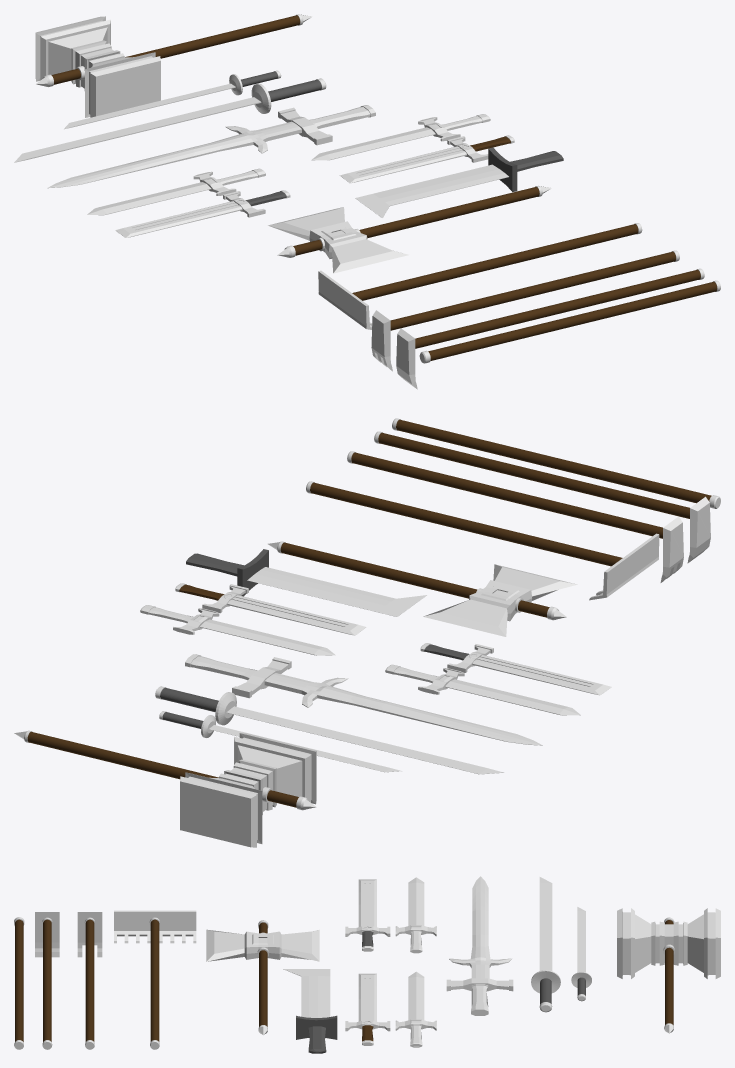
File: uploads_files_3107927_swords.fbx
3 renders of one model, top to bottom at view 1: azimuth 30°, elevation 25°; view 2: azimuth 150°, elevation 25°; view 3: azimuth 270°, elevation 25°, orthographic. The views are drawn at different scales.
Parts seen in each view (by area): view 1: Hammer, Axe, Two-handed sword, Rake, Hoe, Hoe 2, Sword, Battle stick, Tati, Black square sword, square sword, Sword gold (+2 smaller); view 2: Hammer, Axe, Two-handed sword, Rake, Hoe, Hoe 2, Sword, Battle stick, Tati, square sword, Black square sword, Bronze sword (+2 smaller); view 3: Hammer, Axe, Rake, Two-handed sword, Sword, Tati, Hoe 2, Hoe, square sword, Black square sword, Sword gold, Bronze sword (+2 smaller).
Part boxes in pixels (<box>): Hammer: <box>35,14,312,117</box>; Axe: <box>268,185,551,273</box>; Two-handed sword: <box>47,105,375,188</box>; Rake: <box>318,223,642,329</box>; Hoe: <box>396,268,704,389</box>; Hoe 2: <box>371,250,679,371</box>; Sword: <box>355,147,563,217</box>; Battle stick: <box>419,280,720,363</box>; Tati: <box>14,78,326,162</box>; Black square sword: <box>115,190,290,237</box>; square sword: <box>339,135,514,183</box>; Sword gold: <box>311,114,490,160</box>; Hammer: <box>14,730,316,847</box>; Axe: <box>268,541,577,636</box>; Two-handed sword: <box>185,654,542,745</box>; Rake: <box>306,481,659,600</box>; Hoe: <box>374,431,710,563</box>; Hoe 2: <box>347,451,683,582</box>; Sword: <box>186,549,426,616</box>; Battle stick: <box>392,418,720,508</box>; Tati: <box>155,686,503,774</box>; square sword: <box>175,583,366,635</box>; Black square sword: <box>420,643,611,695</box>; Bronze sword: <box>385,664,580,715</box>; Hammer: <box>617,908,720,1033</box>; Axe: <box>206,920,319,1035</box>; Rake: <box>114,910,196,1049</box>; Two-handed sword: <box>446,876,513,1015</box>; Sword: <box>283,969,337,1053</box>; Tati: <box>531,877,560,1012</box>; Hoe 2: <box>77,912,102,1049</box>; Hoe: <box>35,912,59,1049</box>; square sword: <box>345,973,390,1045</box>; Black square sword: <box>345,879,390,951</box>; Sword gold: <box>395,971,436,1047</box>; Bronze sword: <box>395,877,436,953</box>.
Size of the model in its own units: 4662 by 681 by 7916.
